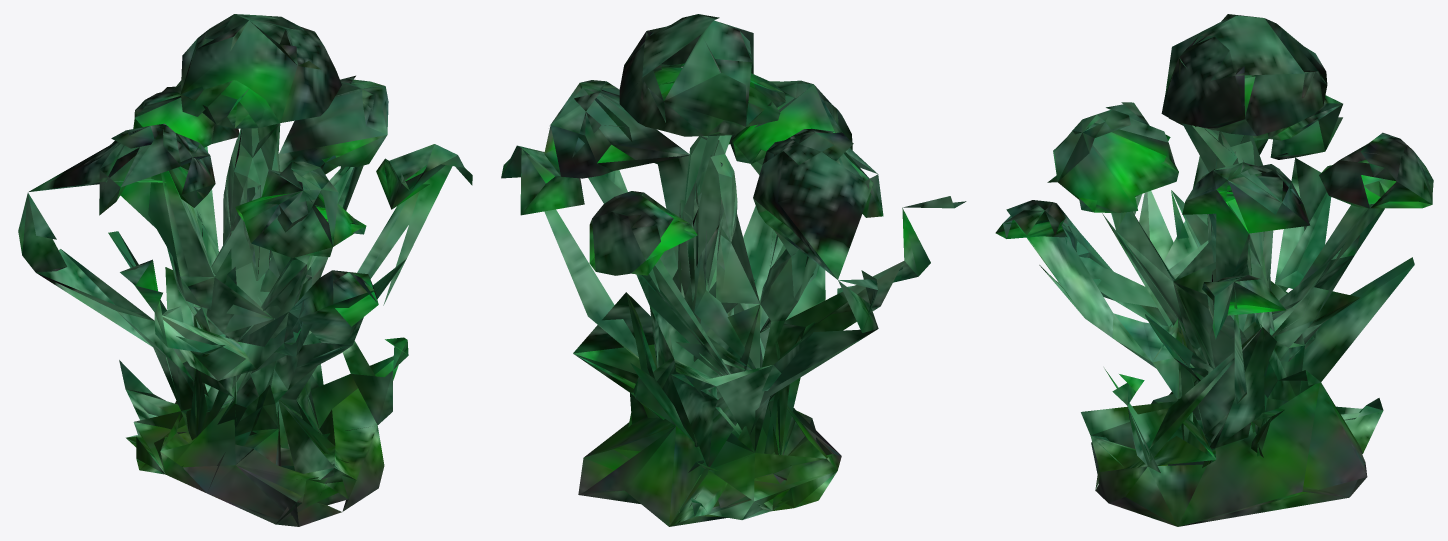
The model's file is alien_fungus_1865859791_lod0.glb.
3 views of the same model, side by side, from view 1: azimuth 30°, elevation 25°; view 2: azimuth 150°, elevation 25°; view 3: azimuth 270°, elevation 25° (orthographic). The views are drawn at different scales.
Bounding box in the file's own units: 2.24 × 2.4 × 2.03.
Materials: 1 (1 with a texture image).
